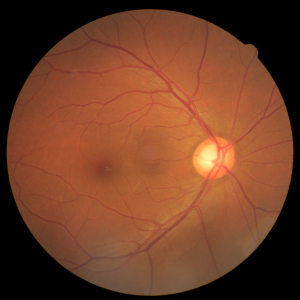glaucoma: (88, 99, 256, 216)
